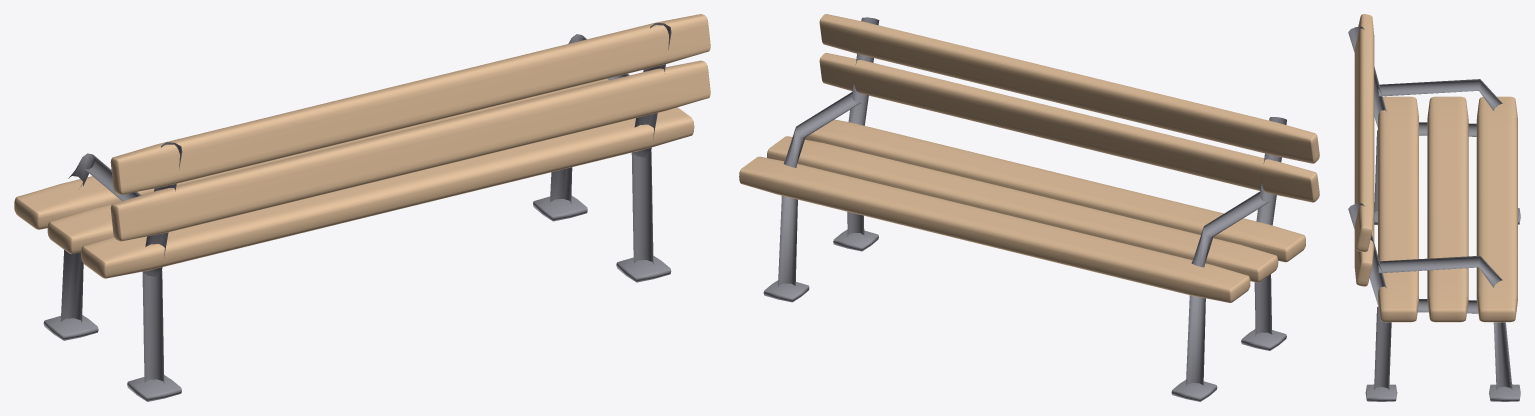
Rendered from Bench.glb.
The picture shows the model from 3 angles, left to right: view 1: azimuth 30°, elevation 25°; view 2: azimuth 150°, elevation 25°; view 3: azimuth 270°, elevation 25°; orthographic projection. The views are drawn at different scales.
Visible parts, largest first — view 1: Bench, Legs; view 2: Bench, Legs; view 3: Bench, Legs.
Boxes of the visible parts, left/top/right/bottom form: Bench: left=14, top=14, right=710, bottom=278; Legs: left=43, top=23, right=671, bottom=401; Bench: left=739, top=14, right=1319, bottom=302; Legs: left=763, top=17, right=1286, bottom=401; Bench: left=1354, top=14, right=1517, bottom=322; Legs: left=1348, top=26, right=1520, bottom=401.
Bounding box in the file's own units: 8 × 3.34 × 2.73.
